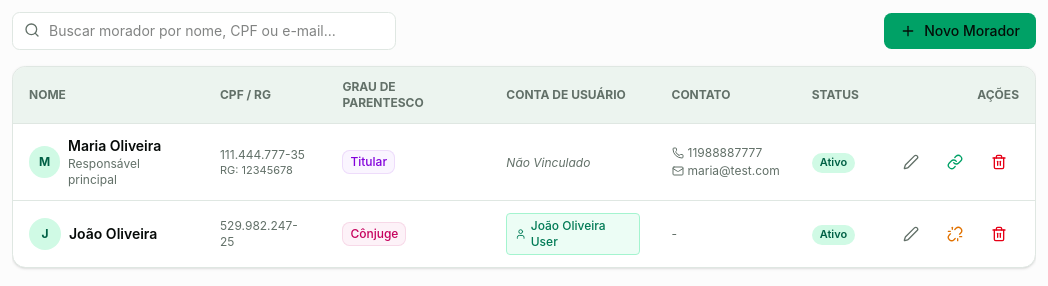
Test: ResidentsTab › filters residents by search query
Expected: the text "Maria Oliveira" is shown, 68,137 -> 161,154
Expected: the text "João Oliveira" is shown, 69,225 -> 157,242
In the field with placeholder "Buscar morador por nome, CPF ou e-mail...": (204, 31) 12,12 -> 396,50, type "Maria"
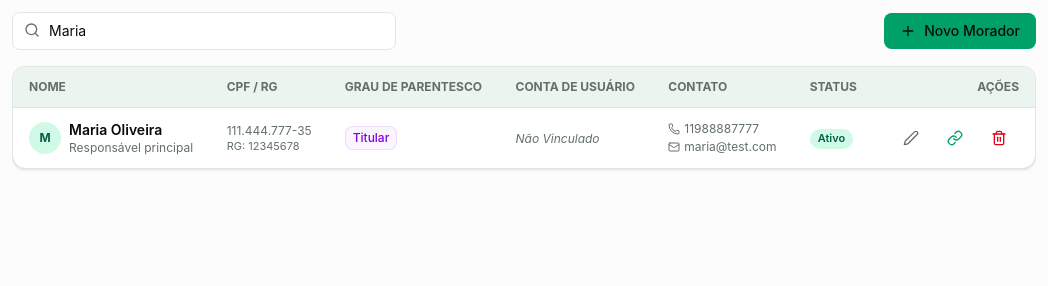
Expected: the text "Maria Oliveira" is shown, 69,121 -> 162,138
Now the text "João Oliveira" is gone
